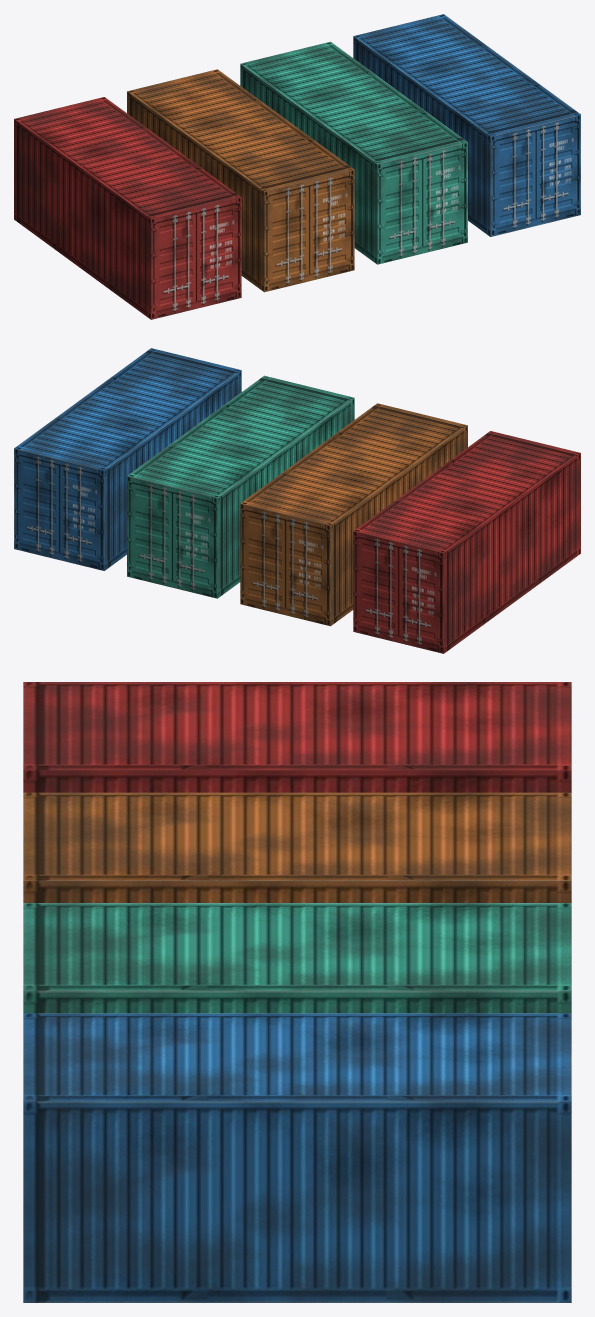
File: psx_cargo_containers.glb
The picture shows the model from 3 angles, top to bottom: view 1: azimuth 30°, elevation 25°; view 2: azimuth 150°, elevation 25°; view 3: azimuth 270°, elevation 25°; orthographic projection. The views are drawn at different scales.
Parts seen in each view (by area): view 1: cargo_1, cargo_2, cargo, cargo_3; view 2: cargo_1, cargo_2, cargo, cargo_3; view 3: cargo_3, cargo, cargo_1, cargo_2.
Part boxes in pixels (x1,y1,x2,y2): cargo_1: (14, 97, 241, 319); cargo_2: (127, 69, 354, 292); cargo: (240, 41, 467, 264); cargo_3: (353, 14, 580, 236); cargo_1: (353, 431, 580, 653); cargo_2: (240, 403, 467, 626); cargo: (127, 375, 354, 598); cargo_3: (14, 348, 241, 570); cargo_3: (23, 1013, 571, 1302); cargo: (23, 903, 571, 1013); cargo_1: (23, 682, 571, 792); cargo_2: (23, 792, 571, 902).
Bounding box in the file's own units: 4.75 × 1.06 × 2.62.
Materials: 4 (4 with a texture image).
